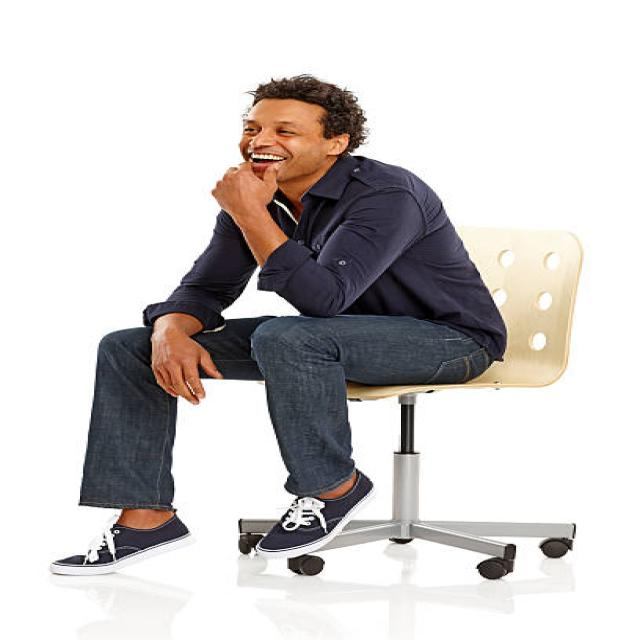Edited images: (43, 68, 515, 588)
